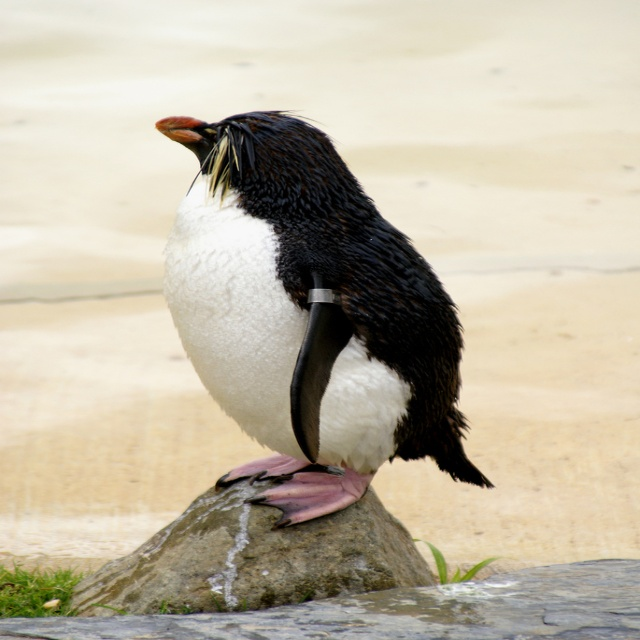Penguin: (152, 106, 497, 535)
